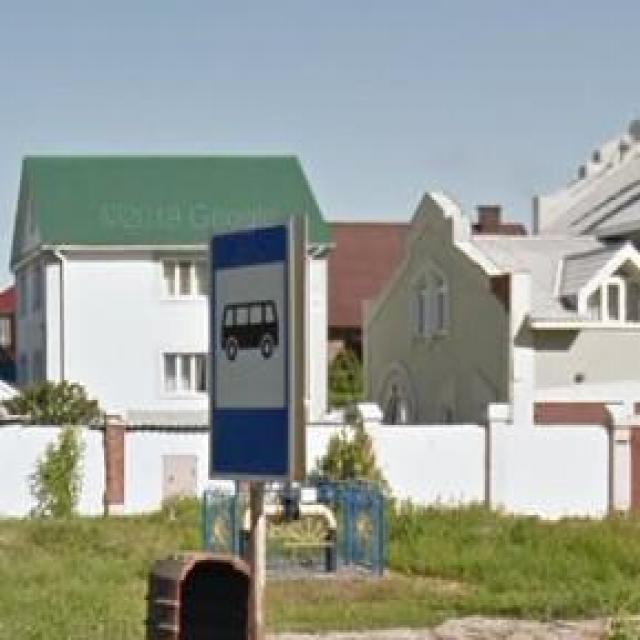bus_stop: (206, 213, 294, 485)
